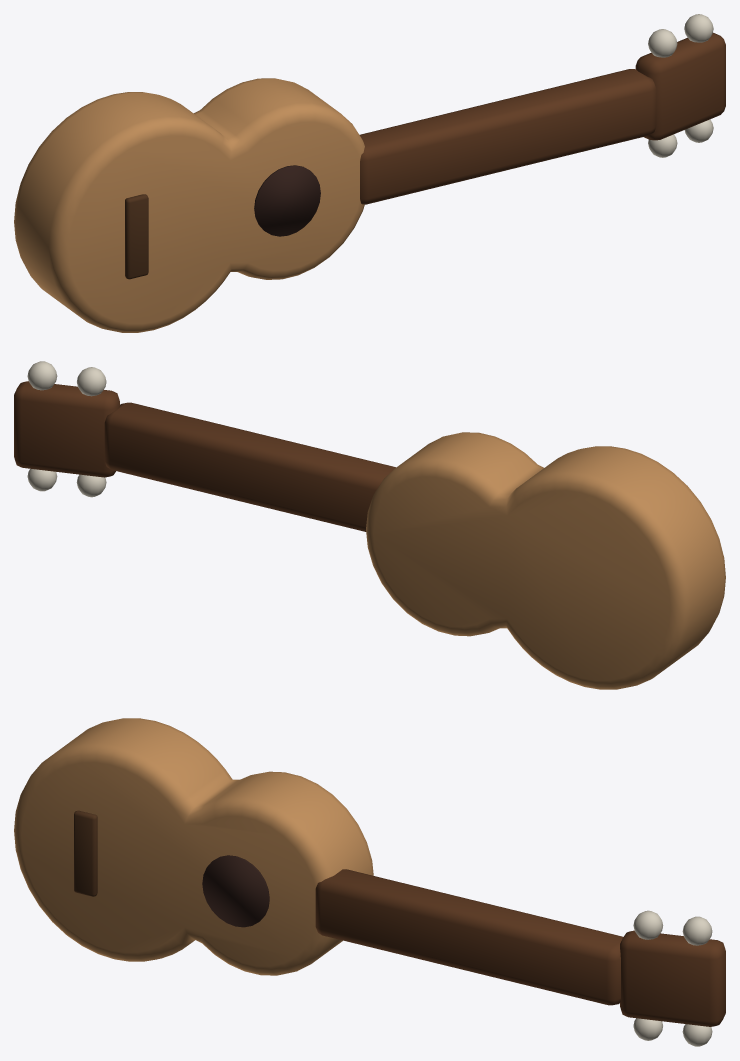
The model's file is ukulele.glb.
The picture shows the model from 3 angles, top to bottom: view 1: azimuth 30°, elevation 25°; view 2: azimuth 150°, elevation 25°; view 3: azimuth 330°, elevation 25°; orthographic projection.
Visible parts, largest first — view 1: ukulele; view 2: ukulele; view 3: ukulele.
Boxes of the visible parts, box(x1,y1,x2,y2) form: ukulele: box(14, 14, 725, 332); ukulele: box(14, 361, 725, 689); ukulele: box(14, 718, 725, 1046).
Bounding box in the file's own units: 0.376 × 0.11 × 0.049.
